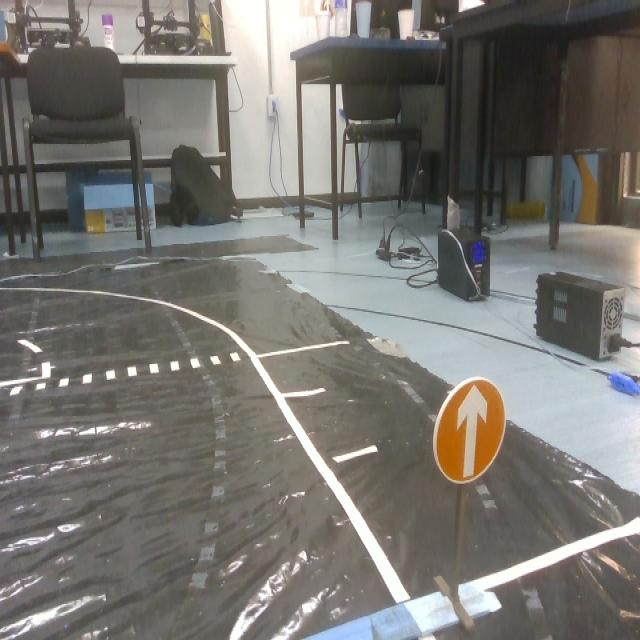right_turn: (428, 373, 510, 483)
